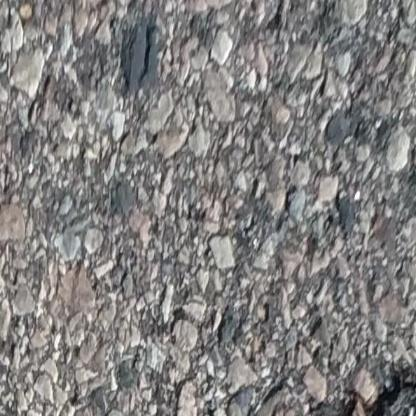Cracks: (299, 344, 416, 416)
